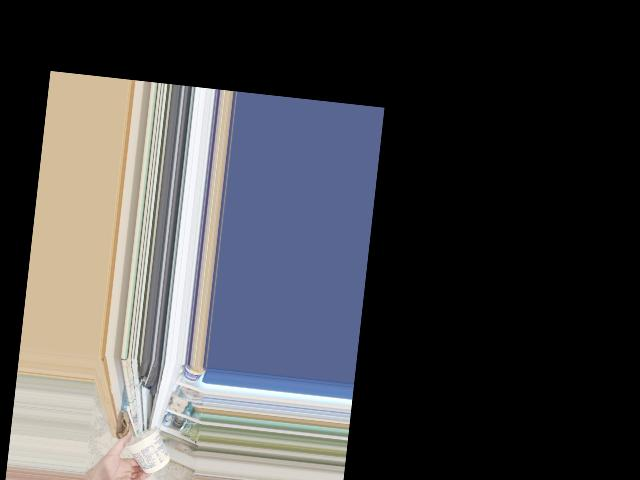cotage: (123, 421, 174, 477)
